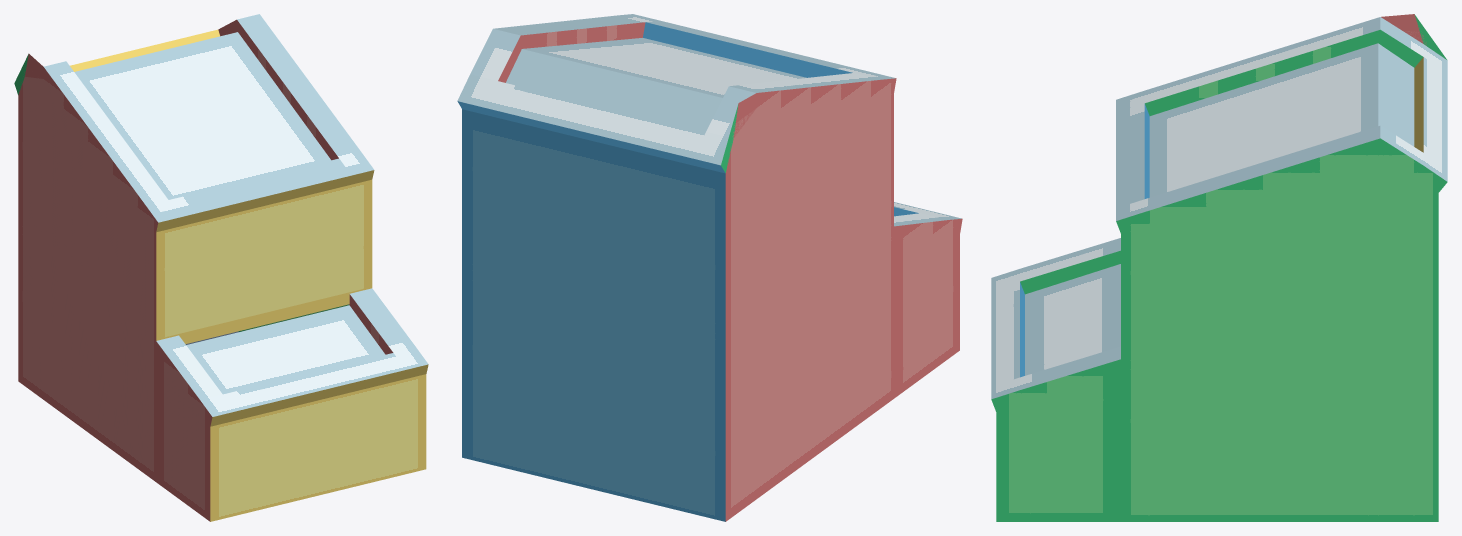
File: townhouse.gltf
3 renders of one model, left to right at view 1: azimuth 30°, elevation 25°; view 2: azimuth 150°, elevation 25°; view 3: azimuth 270°, elevation 25°, orthographic. The views are drawn at different scales.
Visible parts, largest first — view 1: cuboid; view 2: cuboid; view 3: cuboid.
Part boxes in pixels (box(x1,y1,x2,y2)): cuboid: box(14, 14, 428, 521); cuboid: box(457, 14, 962, 521); cuboid: box(991, 14, 1447, 521).
Size of the model in its own units: 0.95 by 1.41 by 1.51.
Materials: 1 (1 with a texture image).
